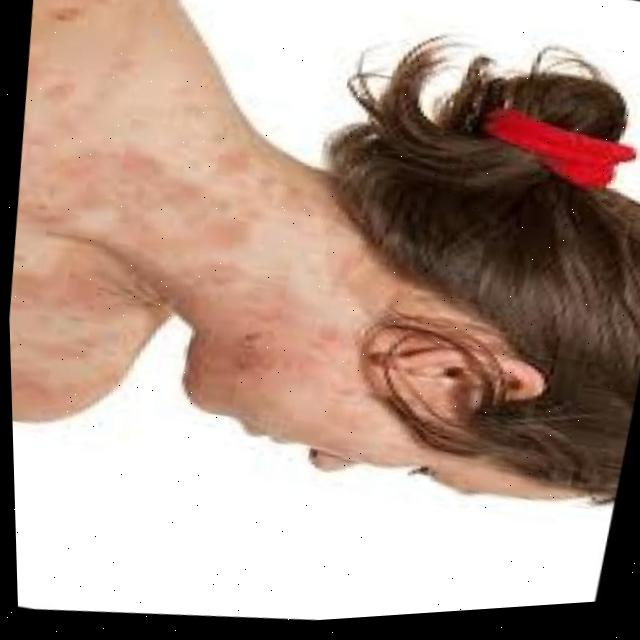Eczema: (4, 104, 333, 399)
